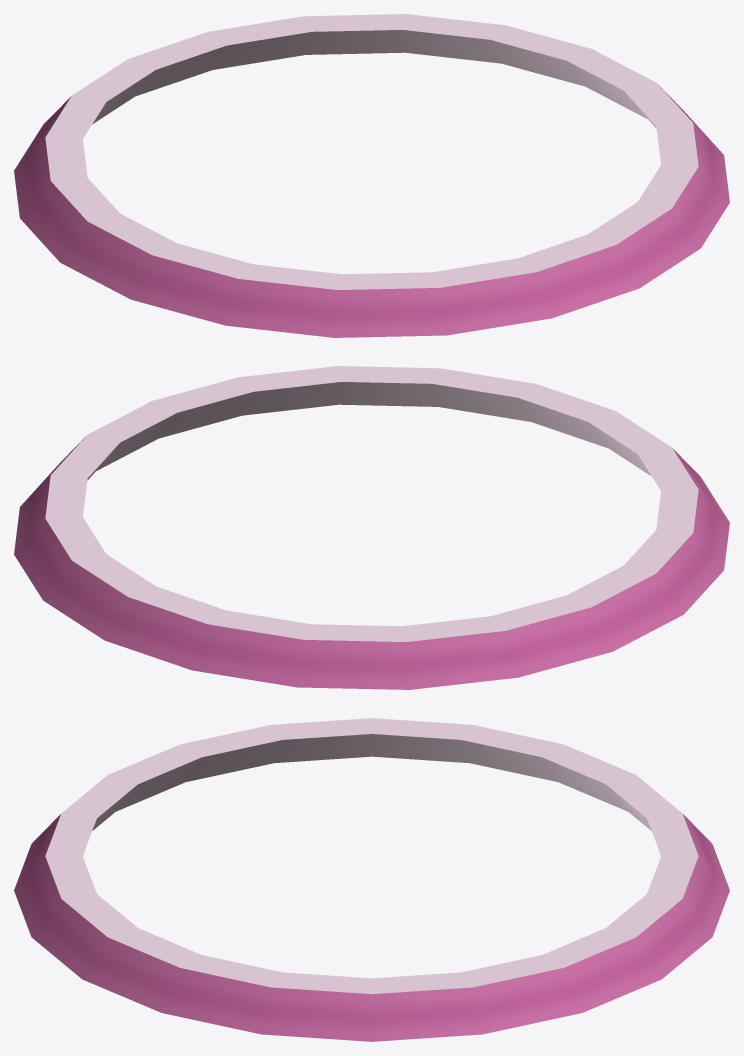
The model's file is onion.fbx.
The picture shows the model from 3 angles, top to bottom: view 1: azimuth 30°, elevation 25°; view 2: azimuth 150°, elevation 25°; view 3: azimuth 270°, elevation 25°; orthographic projection.
Parts seen in each view (by area): view 1: onion; view 2: onion; view 3: onion.
Boxes of the visible parts, x1,y1,x2,y2 form: onion: (14, 14, 729, 337); onion: (14, 366, 729, 689); onion: (14, 718, 729, 1041).
Bounding box in the file's own units: 4.71 × 0.2497 × 4.71.
